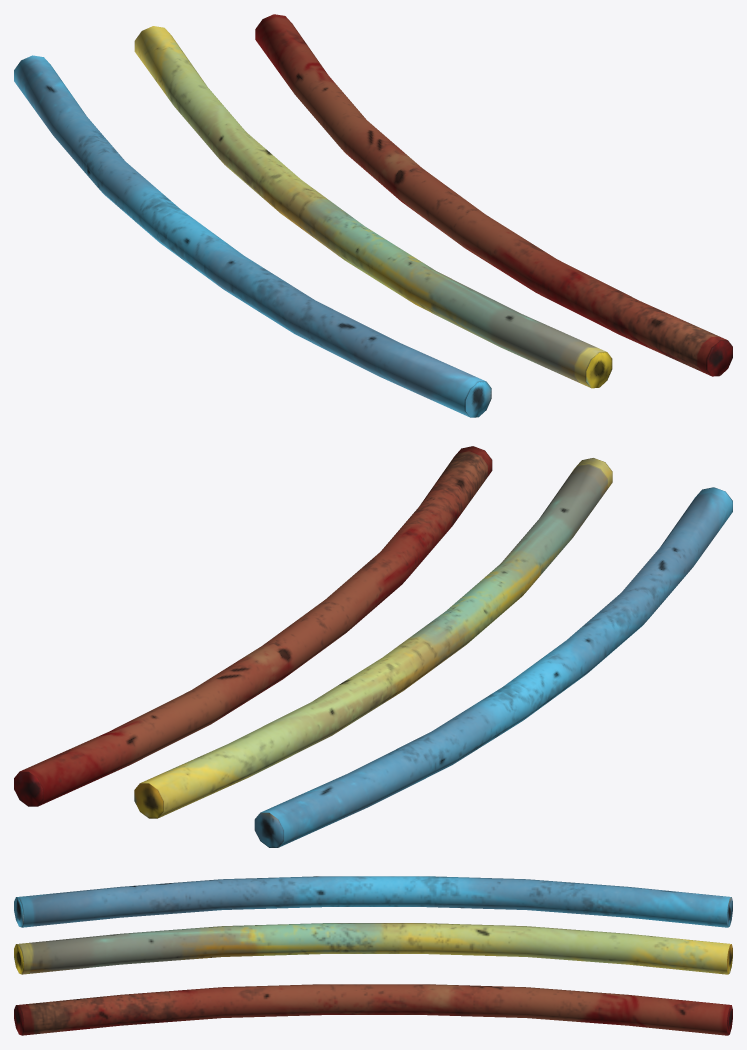
File: Poolnoodle_Asset.fbx
3 views of the same model, one above another, from view 1: azimuth 30°, elevation 25°; view 2: azimuth 150°, elevation 25°; view 3: azimuth 270°, elevation 25° (orthographic). The views are drawn at different scales.
Visible parts, largest first — view 1: PoolNoodle1, PoolNoodle2, PoolNoodle3; view 2: PoolNoodle2, PoolNoodle1, PoolNoodle3; view 3: PoolNoodle3, PoolNoodle1, PoolNoodle2.
Part boxes in pixels (bbox=[...]): PoolNoodle1: bbox=[134, 26, 612, 388]; PoolNoodle2: bbox=[255, 14, 732, 376]; PoolNoodle3: bbox=[14, 55, 491, 417]; PoolNoodle2: bbox=[14, 446, 492, 806]; PoolNoodle1: bbox=[134, 458, 612, 818]; PoolNoodle3: bbox=[254, 487, 732, 847]; PoolNoodle3: bbox=[14, 876, 732, 927]; PoolNoodle1: bbox=[14, 923, 732, 974]; PoolNoodle2: bbox=[14, 984, 732, 1035].
Size of the model in its own units: 68 by 162 by 10.5.
1 material, 1 textured.
